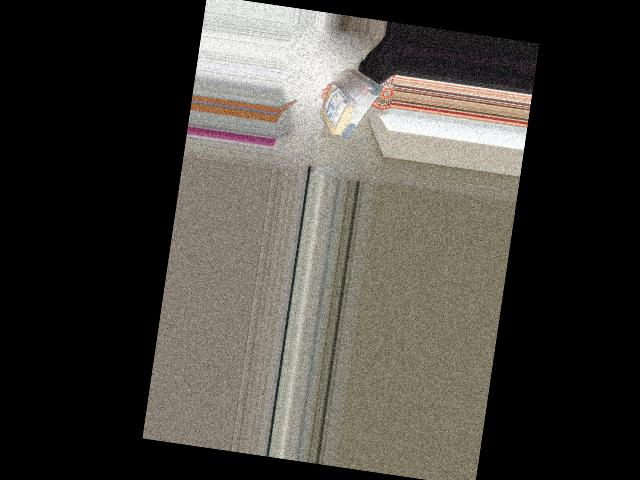cheese: (314, 53, 384, 145)
